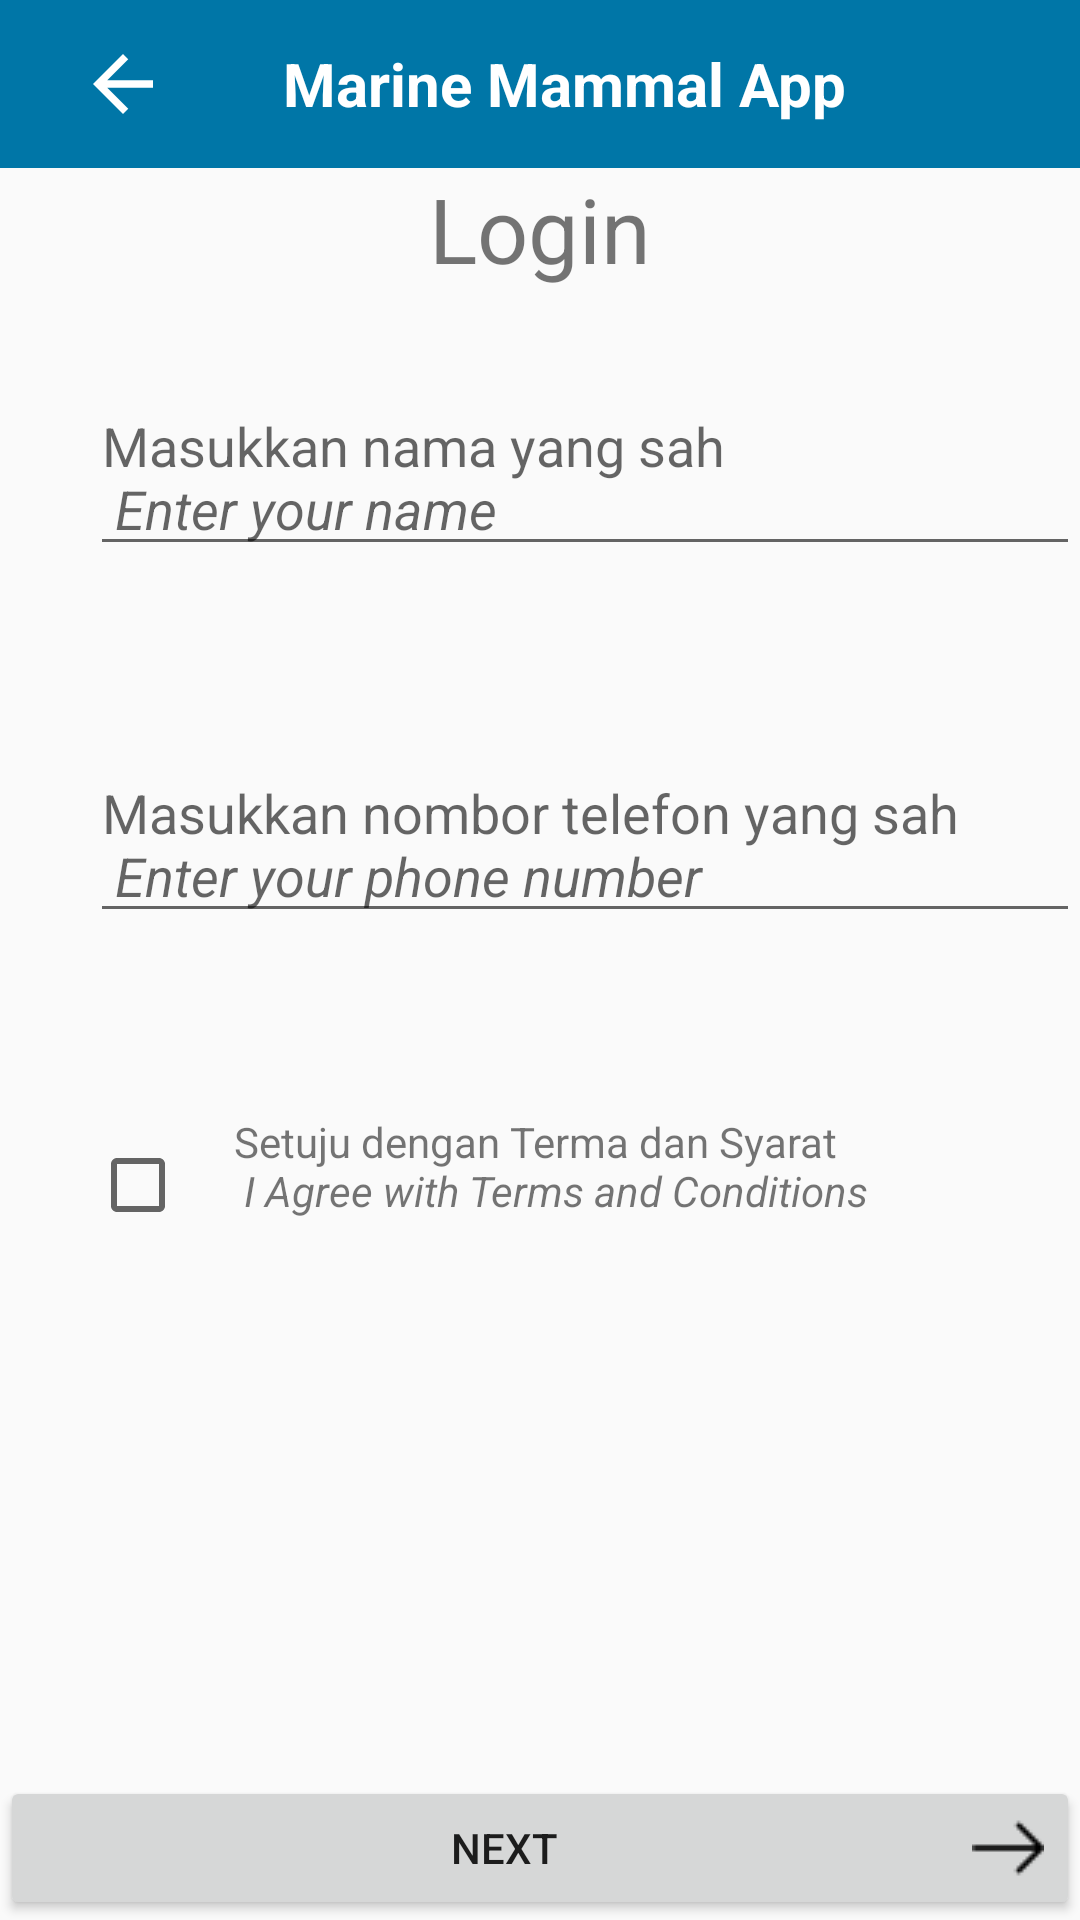

Where to tap for icons on this 1080px×1920px app screen, as (x=x, y=y):
Back button: (x=123, y=84)
